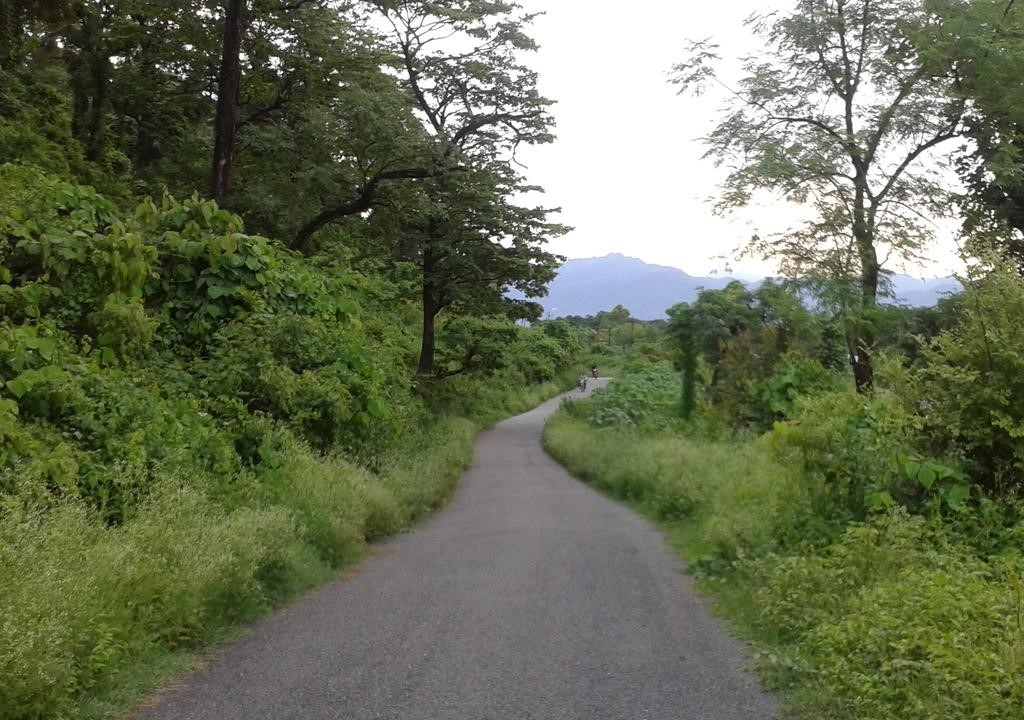Road: (147, 373, 792, 720)
